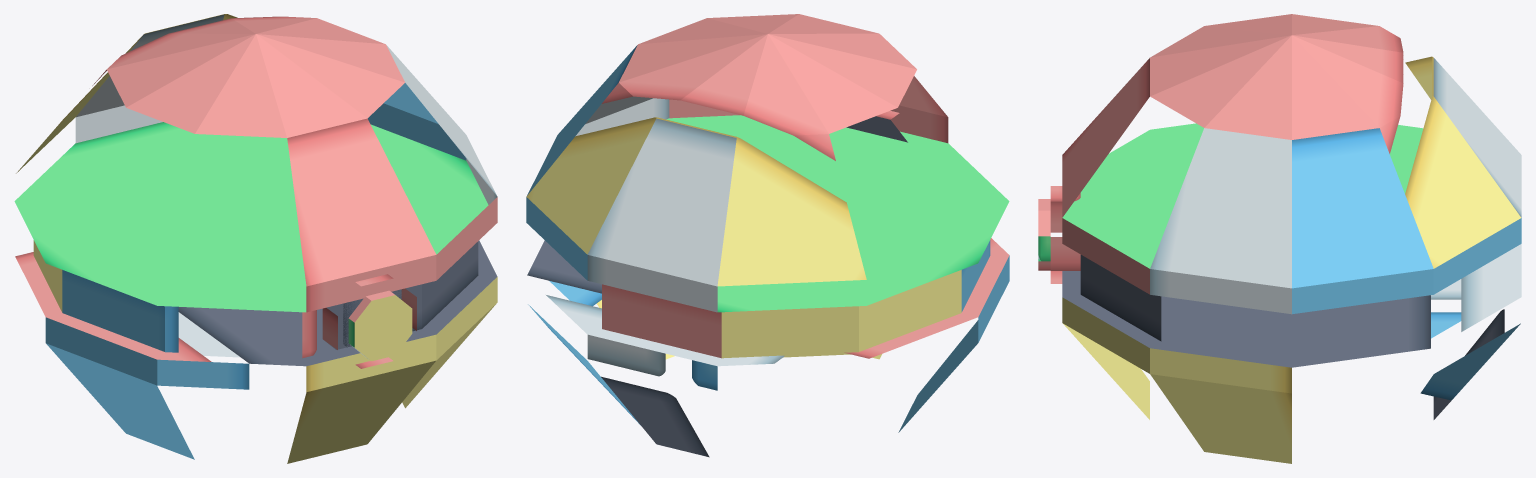
Rendered from robot-ball.obj.
The picture shows the model from 3 angles, left to right: view 1: azimuth 30°, elevation 25°; view 2: azimuth 150°, elevation 25°; view 3: azimuth 270°, elevation 25°; orthographic projection.
Parts seen in each view (by area): view 1: robot-ball; view 2: robot-ball; view 3: robot-ball.
Part boxes in pixels (bbox=[...]): robot-ball: bbox=[14, 14, 497, 463]; robot-ball: bbox=[526, 14, 1009, 457]; robot-ball: bbox=[1038, 14, 1521, 463].
Bounding box in the file's own units: 1 × 0.9313 × 1.
